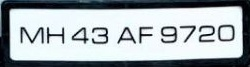character: (19, 25, 45, 44), (45, 25, 65, 44), (116, 26, 137, 44), (89, 25, 108, 44), (178, 24, 197, 43), (197, 23, 215, 43), (216, 22, 234, 42), (70, 26, 89, 44), (159, 25, 177, 44), (138, 24, 154, 44)
